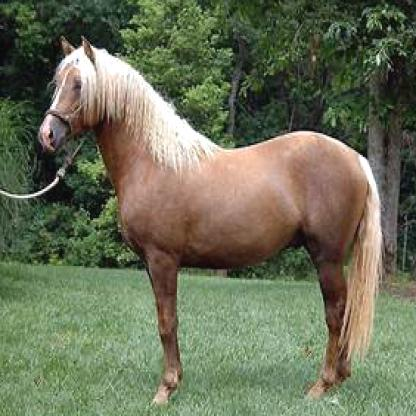horse: (39, 34, 380, 404)
